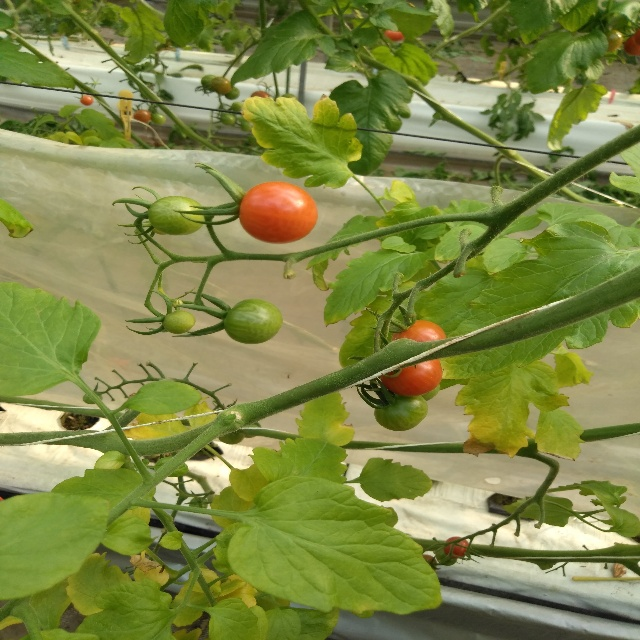l_fully_ripened: (380, 359, 444, 397), (444, 536, 468, 558)
l_green: (223, 297, 285, 344), (147, 196, 208, 235), (374, 394, 428, 431), (162, 310, 196, 335), (434, 546, 457, 566), (219, 429, 243, 445), (189, 496, 208, 513)
l_half_ripened: (238, 181, 318, 244), (390, 320, 445, 342)
